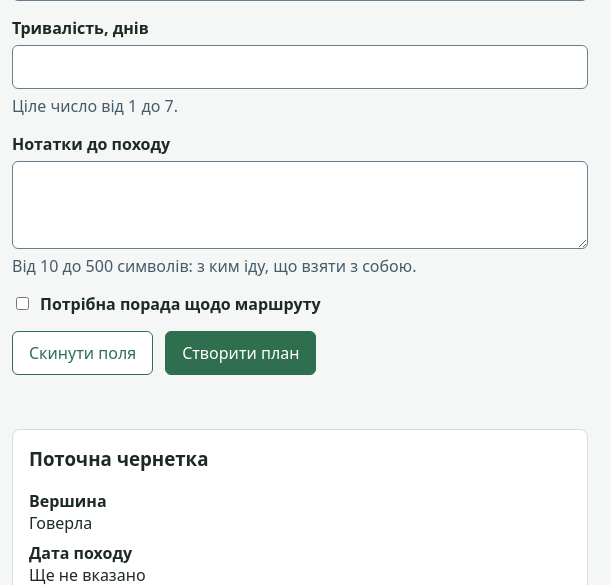
Test: не зберігає порожню форму та пояснює першу помилку
(page scrolled)
Click the button "Створити план".
click(241, 353)  # box top-left (165, 331), bottom-right (316, 375)
(page scrolled)
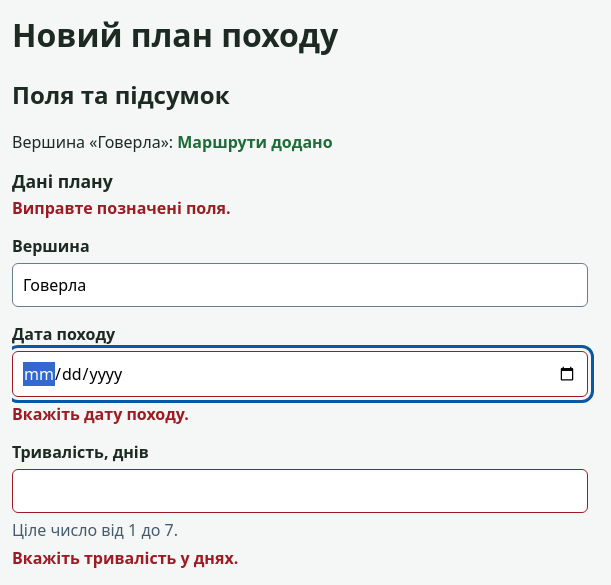
Result: the text "Вкажіть дату походу." is shown at top-left (12, 403), bottom-right (189, 425)
Result: the message reads "Виправте позначені поля." at top-left (12, 197), bottom-right (231, 219)
